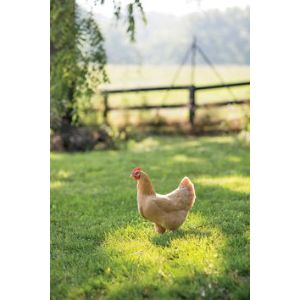hen: (122, 162, 208, 241)
